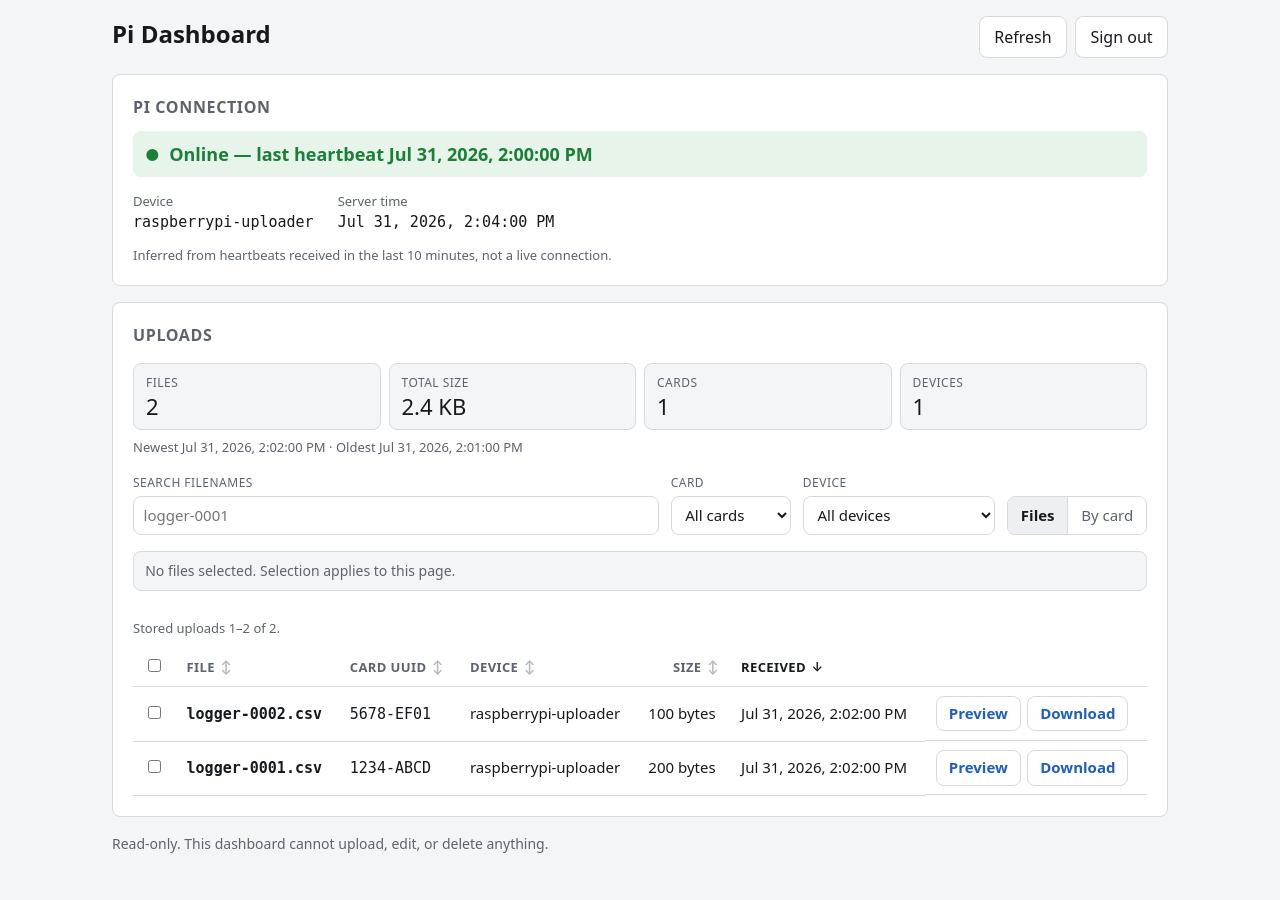
bulk selection › clears the selection when the listed rows change
Click the checkbox named "Select logger-0001.csv" at (155, 767), box [148, 760, 161, 774]
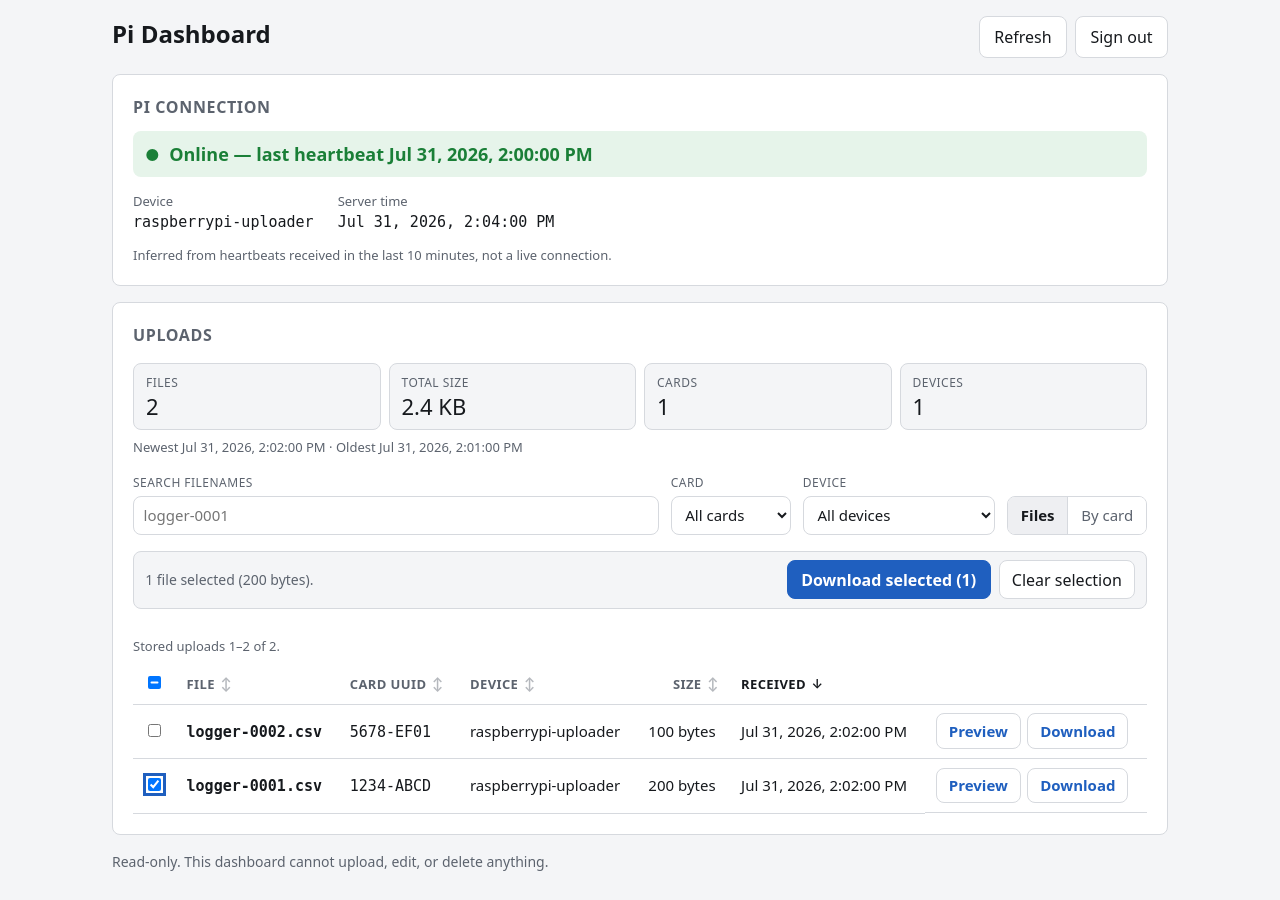
Expected: the button "Download selected (1)" is shown, [787, 560, 991, 599]
Sorting asks the server for a different set of rows.
Click the button "Size ↕" at (684, 685), box [637, 666, 730, 704]
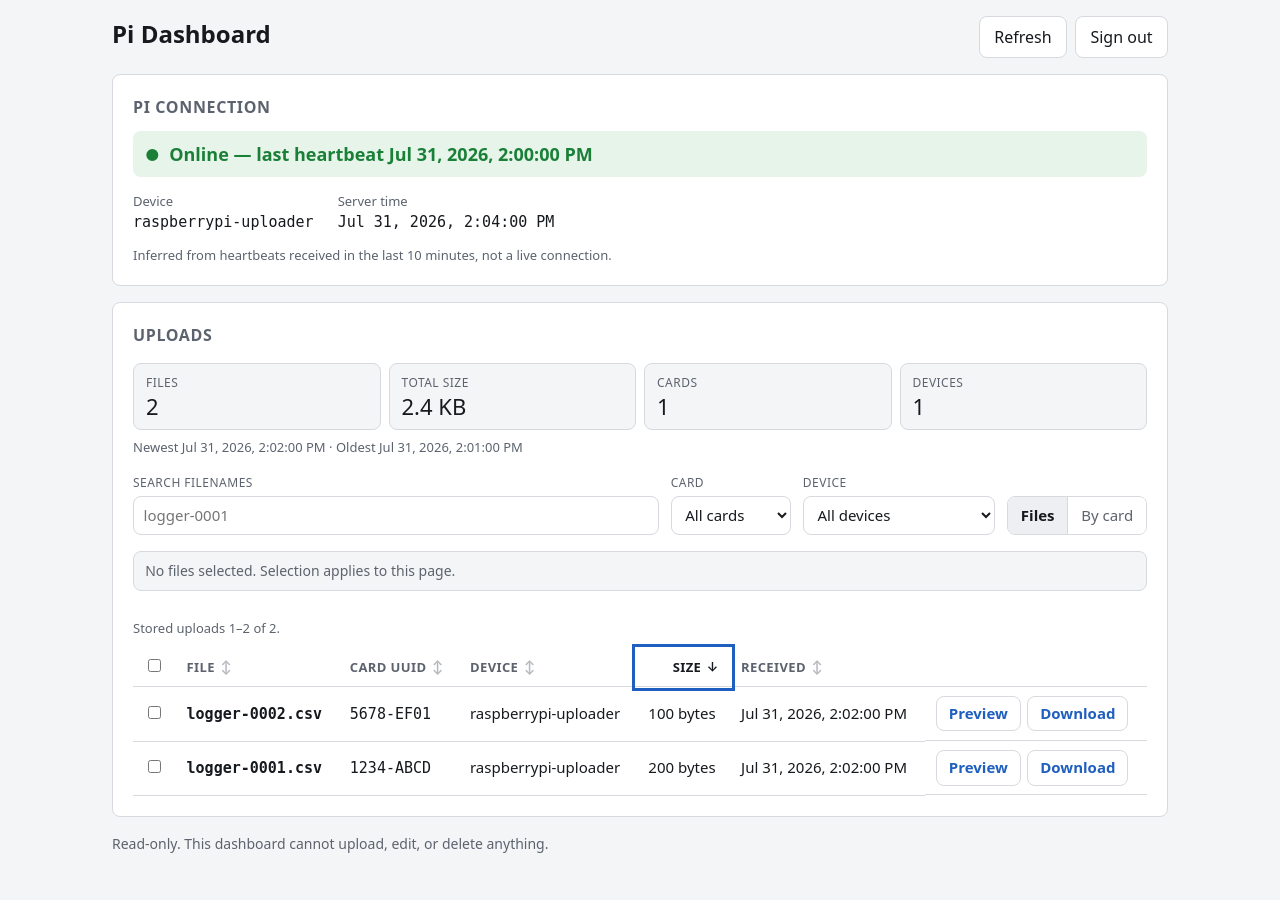
Expected: the button "Download selected" is gone
